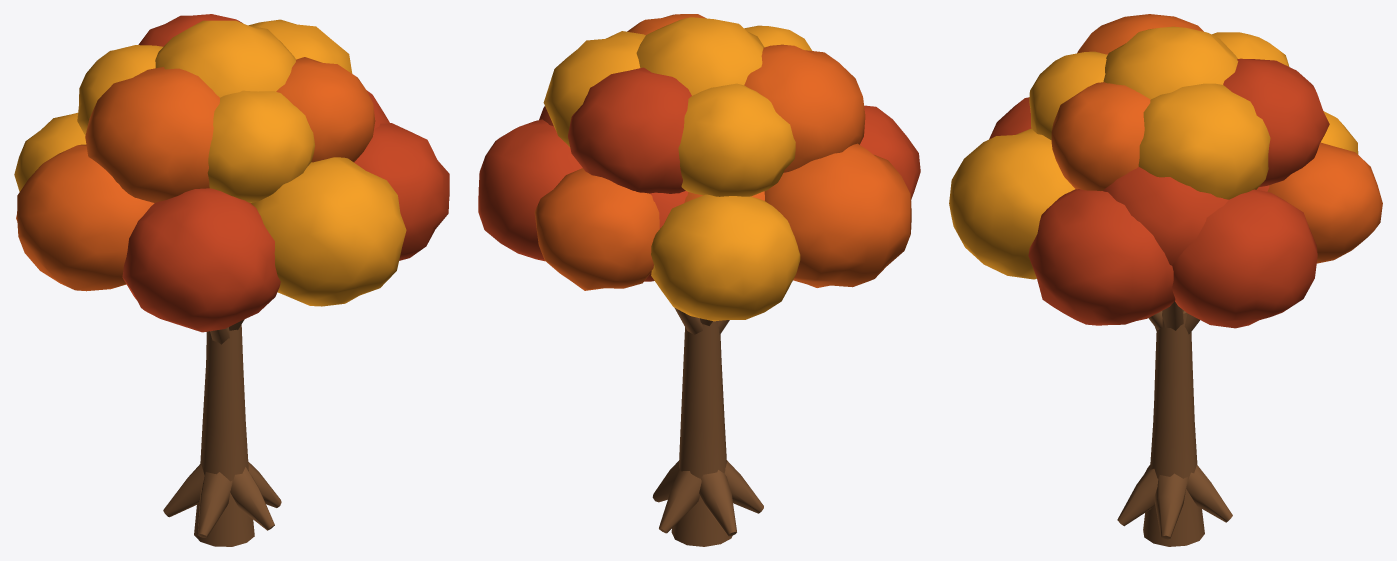
The model's file is autumn_leafy_tree.glb.
The picture shows the model from 3 angles, left to right: view 1: azimuth 30°, elevation 25°; view 2: azimuth 150°, elevation 25°; view 3: azimuth 270°, elevation 25°; orthographic projection.
Visible parts, largest first — view 1: leafy_tree; view 2: leafy_tree; view 3: leafy_tree.
Boxes of the visible parts, left/top/right/bottom form: leafy_tree: left=14, top=14, right=449, bottom=546; leafy_tree: left=478, top=14, right=920, bottom=546; leafy_tree: left=949, top=14, right=1382, bottom=546.
Size of the model in its own units: 7.13 by 8.87 by 6.98.
